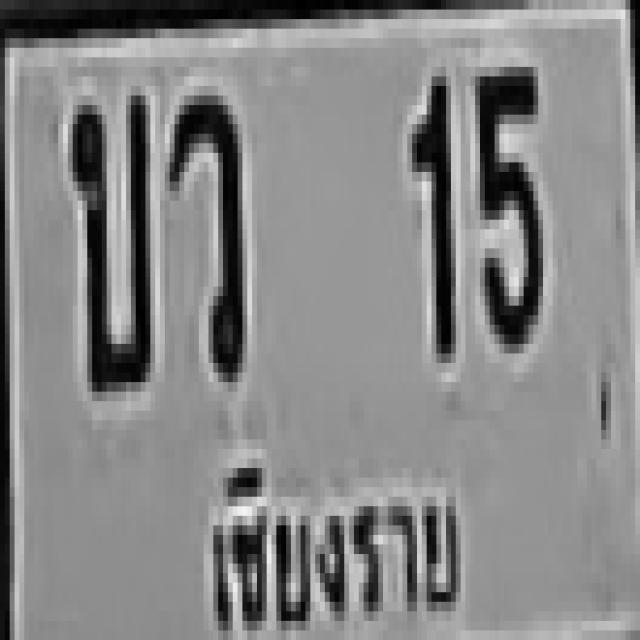1: (407, 67, 451, 353)
35BorBaiMai: (68, 91, 145, 387)
46WorWaen: (165, 86, 242, 373)
5: (470, 57, 538, 344)
ChiangRai: (194, 445, 468, 637)
